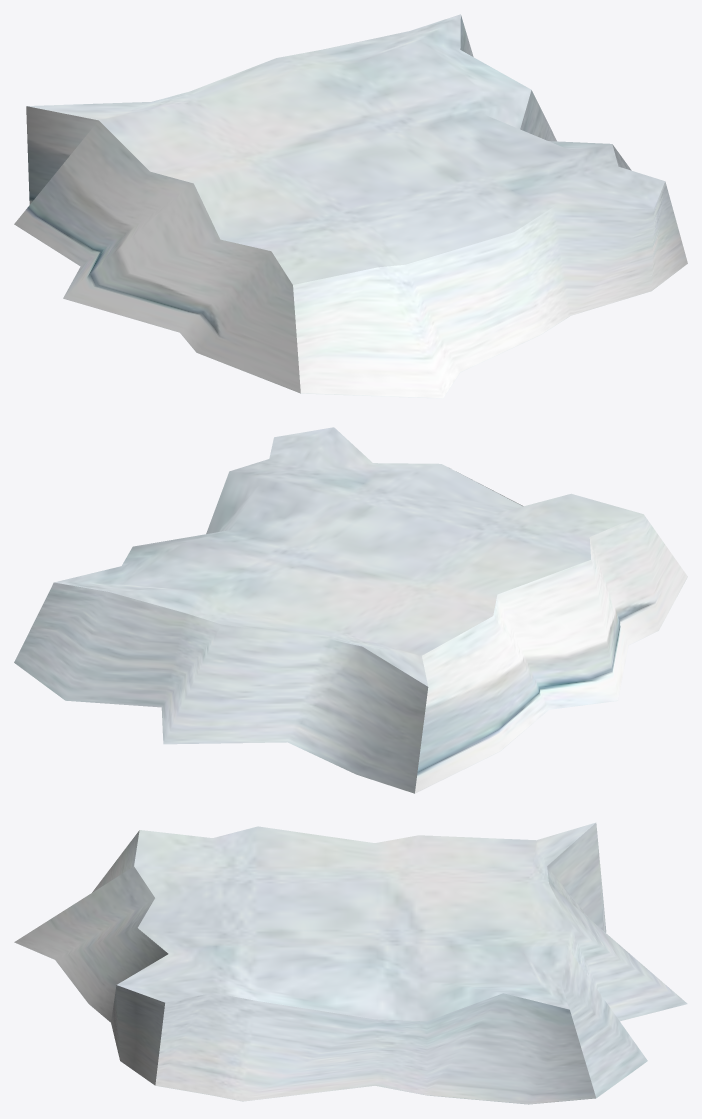
The model's file is SmallIce_B.fbx.
The picture shows the model from 3 angles, top to bottom: view 1: azimuth 30°, elevation 25°; view 2: azimuth 150°, elevation 25°; view 3: azimuth 270°, elevation 25°; orthographic projection. The views are drawn at different scales.
Parts seen in each view (by area): view 1: pCube2; view 2: pCube2; view 3: pCube2.
Part boxes in pixels (left/top/right/bottom): pCube2: left=14, top=14, right=687, bottom=398; pCube2: left=14, top=427, right=687, bottom=793; pCube2: left=14, top=822, right=687, bottom=1104.
Size of the model in its own units: 7.71 by 1.62 by 9.25.
Materials: 1 (1 with a texture image).
